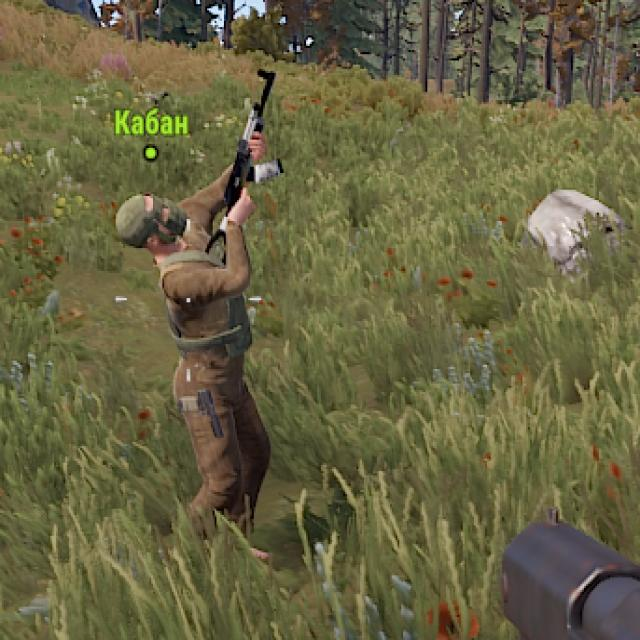Player: (116, 167, 272, 523)
